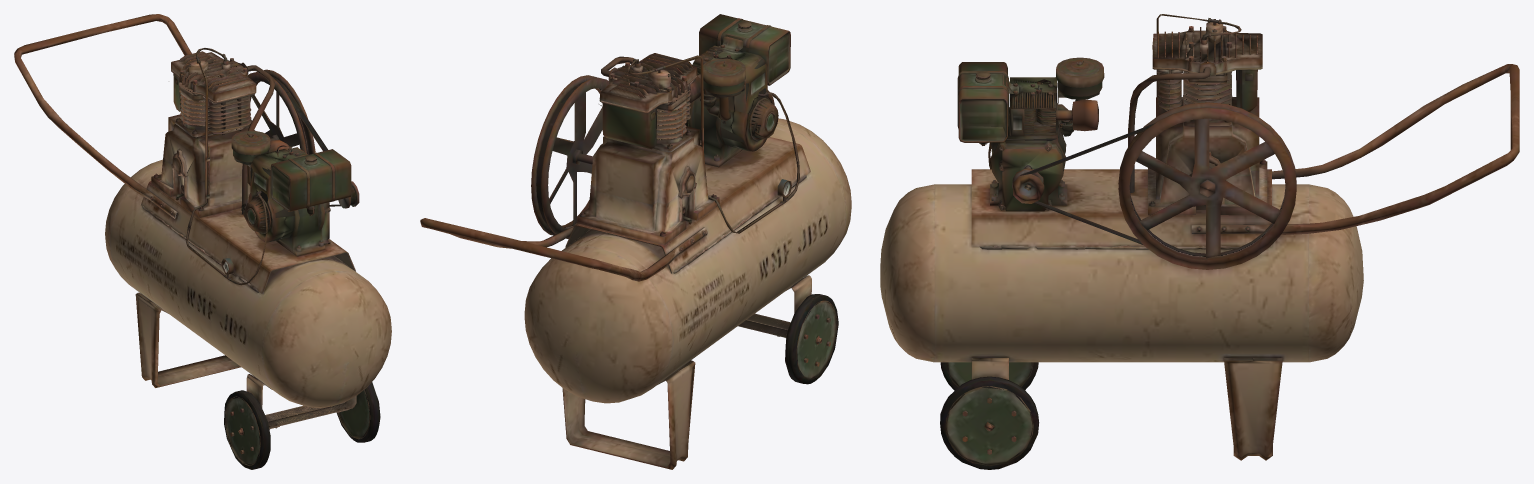
The model's file is old_military_compressor_512.glb.
3 views of the same model, side by side, from view 1: azimuth 30°, elevation 25°; view 2: azimuth 150°, elevation 25°; view 3: azimuth 270°, elevation 25° (orthographic). The views are drawn at different scales.
Visible parts, largest first — view 1: old_military_compressor; view 2: old_military_compressor; view 3: old_military_compressor.
Part boxes in pixels (x1=…): old_military_compressor: x1=14, y1=14, x2=391, y2=469; old_military_compressor: x1=420, y1=14, x2=851, y2=469; old_military_compressor: x1=880, y1=14, x2=1519, y2=469.
Bounding box in the file's own units: 0.5957 × 1.18 × 1.67.
Materials: 2 (2 with a texture image).
